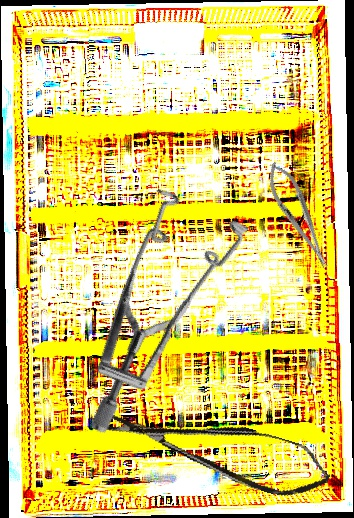Micro Scissor: (98, 387, 337, 509)
Needle Holder: (259, 156, 338, 275)
Speculum: (4, 158, 304, 439)
